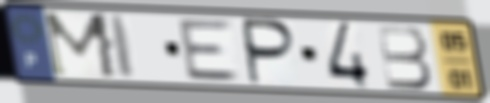4: (322, 20, 375, 92)
B: (374, 24, 435, 92)
E: (175, 18, 244, 83)
I: (107, 13, 138, 82)
M: (39, 10, 121, 81)
P: (241, 16, 299, 88)
